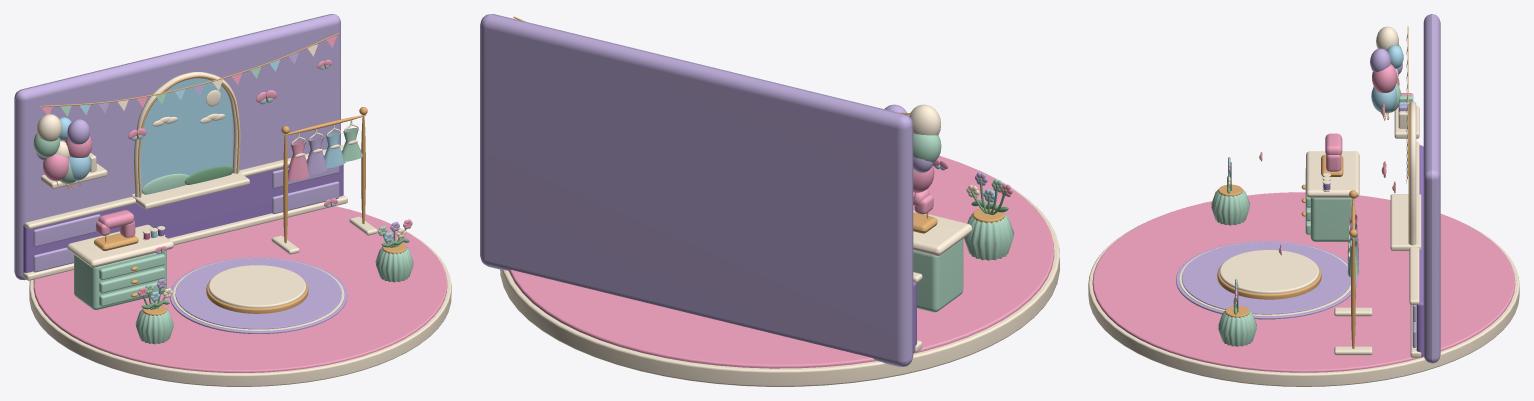
The model's file is atelie.glb.
The picture shows the model from 3 angles, left to right: view 1: azimuth 30°, elevation 25°; view 2: azimuth 150°, elevation 25°; view 3: azimuth 270°, elevation 25°; orthographic projection. The views are drawn at different scales.
Parts seen in each view (by area): view 1: Rose floor, Back wall, Window sky, Diorama base, Wainscot, Velvet rug, Stage top, Desk top, Sewing cabinet, Baseboard, Window seat, Portal molding (+32 smaller); view 2: Back wall, Rose floor, Diorama base, Sewing cabinet, Fluted vase, Desk top, Party balloon.009, Party balloon.006; view 3: Rose floor, Diorama base, Back wall, Velvet rug, Stage top, Desk top, Sewing cabinet, Window seat, Portal molding, Wainscot, Fluted vase.001, Fluted vase (+12 smaller).
Part boxes in pixels (box(x1,y1,x2,y2)): Rose floor: box(33, 206, 447, 372); Back wall: box(14, 14, 340, 280); Window sky: box(140, 78, 232, 193); Diorama base: box(29, 223, 451, 386); Wainscot: box(23, 164, 343, 272); Velvet rug: box(175, 258, 341, 329); Stage top: box(208, 265, 306, 308); Desk top: box(67, 224, 173, 267); Sewing cabinet: box(74, 250, 166, 309); Baseboard: box(23, 195, 347, 280); Window seat: box(131, 172, 249, 209); Portal molding: box(133, 71, 240, 197); Back wall: box(480, 14, 913, 366); Rose floor: box(509, 156, 1054, 368); Diorama base: box(500, 172, 1059, 386); Sewing cabinet: box(913, 239, 963, 312); Fluted vase: box(964, 213, 1014, 260); Desk top: box(913, 210, 972, 255); Party balloon.009: box(909, 104, 940, 135); Party balloon.006: box(913, 133, 941, 162); Rose floor: box(1092, 192, 1515, 372); Diorama base: box(1088, 220, 1519, 386); Back wall: box(1423, 14, 1440, 363); Velvet rug: box(1181, 242, 1350, 314); Stage top: box(1219, 250, 1319, 293); Desk top: box(1306, 151, 1359, 197); Sewing cabinet: box(1310, 198, 1354, 241); Window seat: box(1390, 194, 1421, 250); Portal molding: box(1409, 101, 1416, 245); Wainscot: box(1416, 145, 1423, 357); Fluted vase.001: box(1218, 310, 1256, 346); Fluted vase: box(1211, 189, 1249, 225).
Size of what is drawn, in the model's own units: 8.12 by 4.25 by 8.12.
